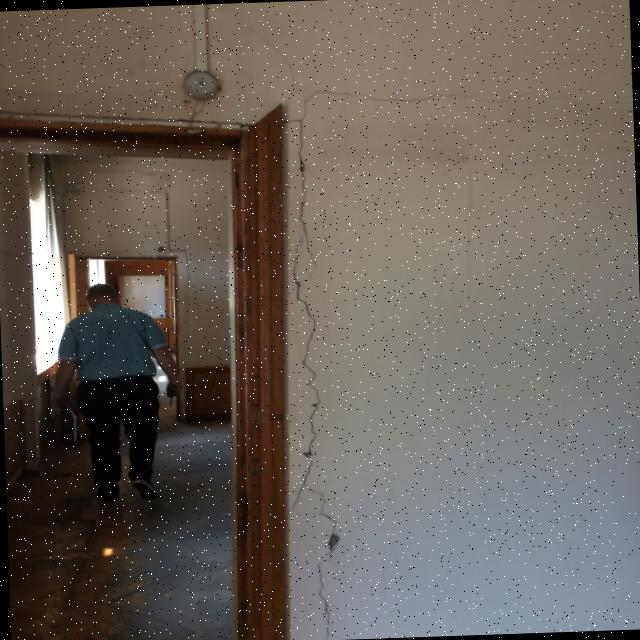NoHelmet: (83, 281, 123, 311)
